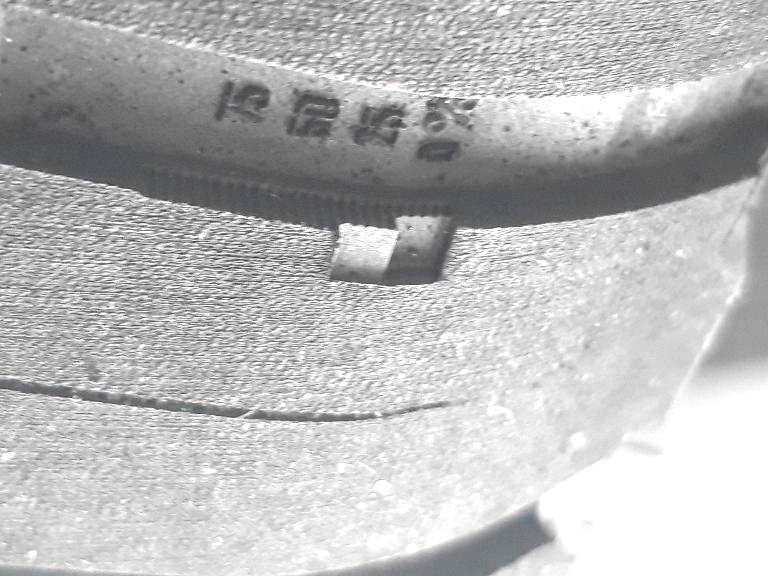temoin:25: (318, 193, 468, 297)
